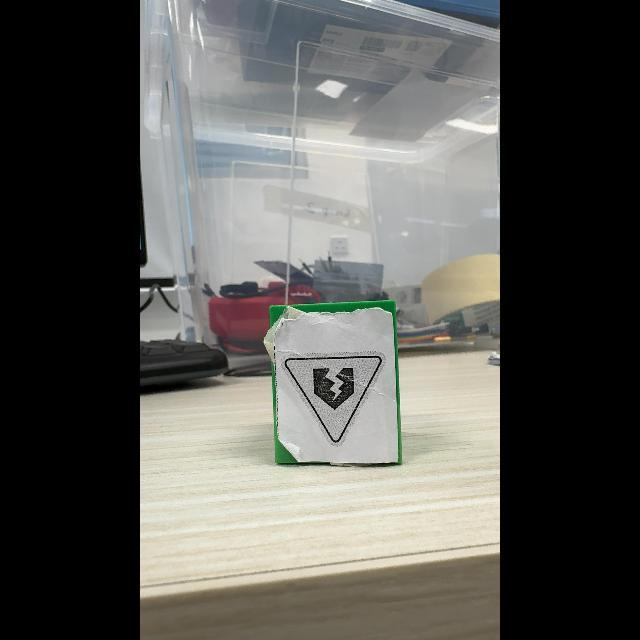Earthquake: (282, 354, 384, 446)
